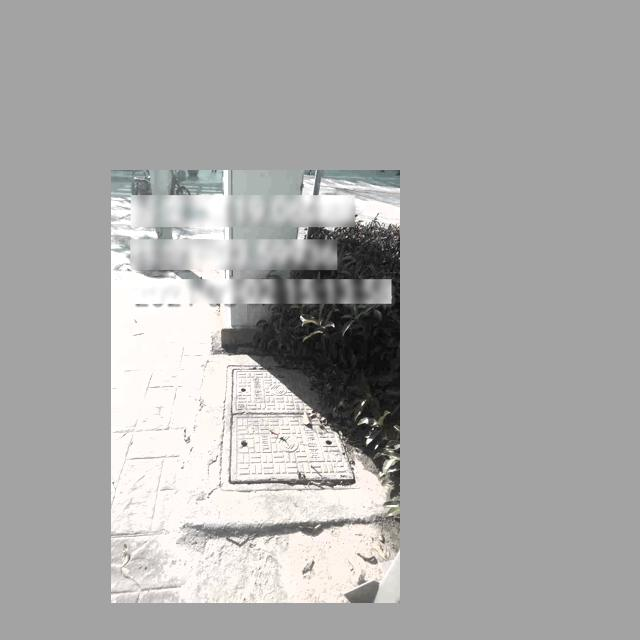good: (219, 365, 361, 488)
